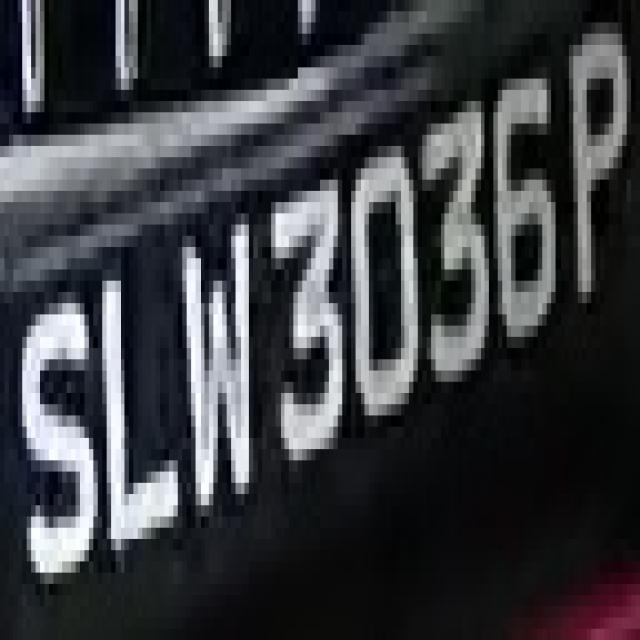0: (333, 146, 422, 449)
3: (258, 135, 342, 505), (404, 90, 498, 393)
6: (494, 45, 556, 382)
L: (98, 258, 182, 573)
P: (560, 22, 631, 326)
S: (9, 247, 102, 584)
W: (178, 191, 262, 528)
